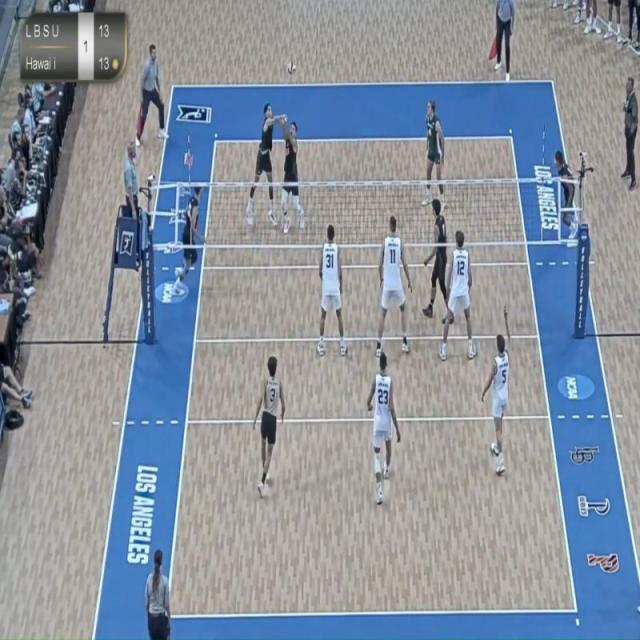volleyball: (284, 56, 298, 80)
